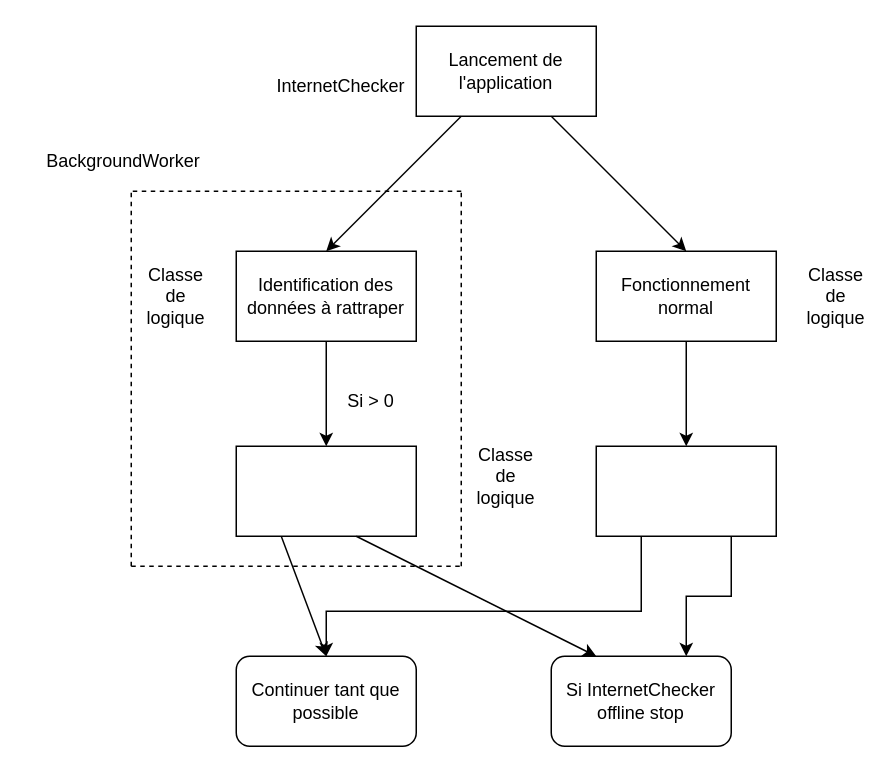
This 891x773 diagram has some shape labels left out. Here are the shapes that lost their labels. From the top down, the centre of each, then its label:
[325,490]: Envois à l'API
[685,490]: Envoi unitaire à l'API
